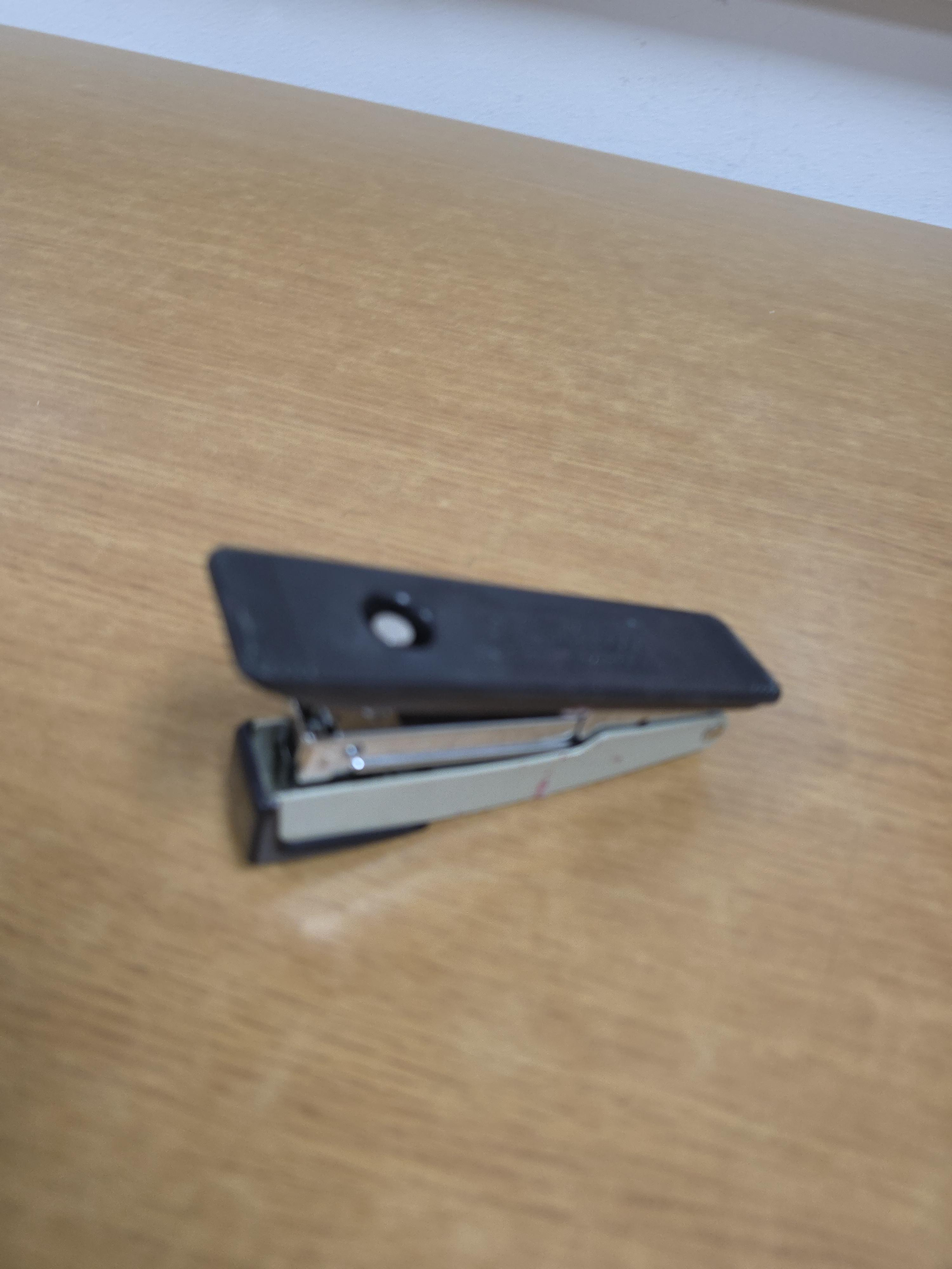stapler: (207, 544, 782, 867)
